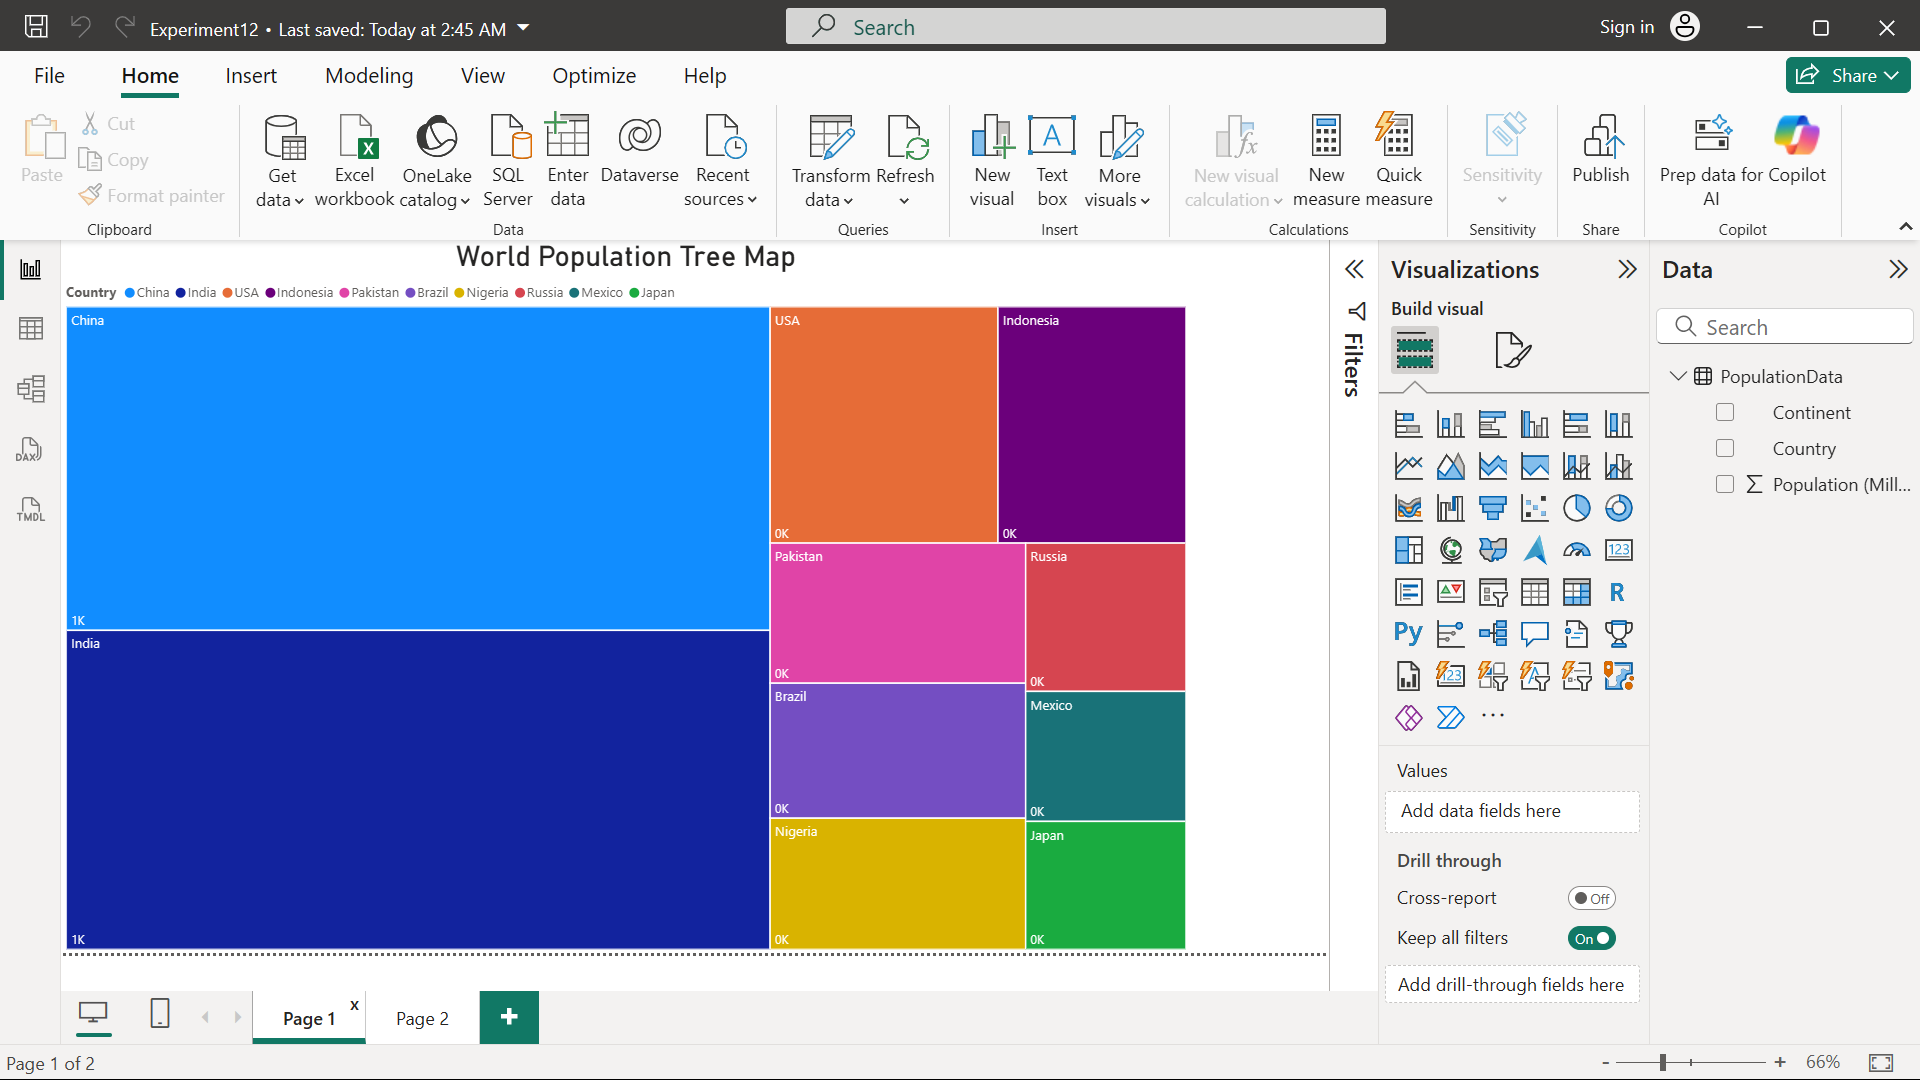

The dashboard page shown, as its layout file describes it:
{"tool":"powerbi","page":{"name":"Page 1","canvas":[1280,720],"ordinal":0},"visuals":[{"type":"treemap","title":"World Population Tree Map","fields":{"Group":["PopulationData.Country"],"Values":["Sum(PopulationData.Population (Millions))"]},"box":[0,0,1140.2,720.8],"z":0}]}

Visuals, with their boxes on the page's 1280x720 design canvas (x1, y1, x2, y2). These are canvas units, not pixel positions in the 1920x1080 screenshot, which may show the page scaled, cropped or inside an application window:
"World Population Tree Map" treemap: 0 0 1140 721
